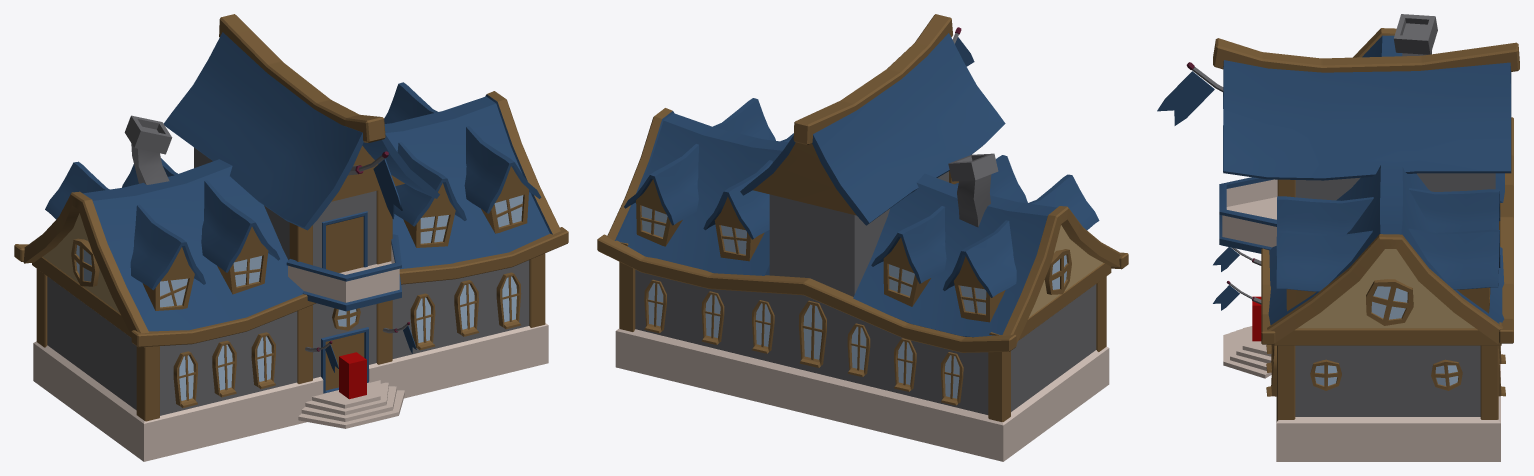
The model's file is TownHall_v1.fbx.
The picture shows the model from 3 angles, left to right: view 1: azimuth 30°, elevation 25°; view 2: azimuth 150°, elevation 25°; view 3: azimuth 270°, elevation 25°; orthographic projection. The views are drawn at different scales.
Parts seen in each view (by area): view 1: TownHall_v1; view 2: TownHall_v1; view 3: TownHall_v1.
Boxes of the visible parts, bbox=[...] form: TownHall_v1: bbox=[14, 14, 568, 461]; TownHall_v1: bbox=[597, 14, 1128, 461]; TownHall_v1: bbox=[1157, 14, 1519, 461].
Bounding box in the file's own units: 24.39 × 17 × 17.48.
